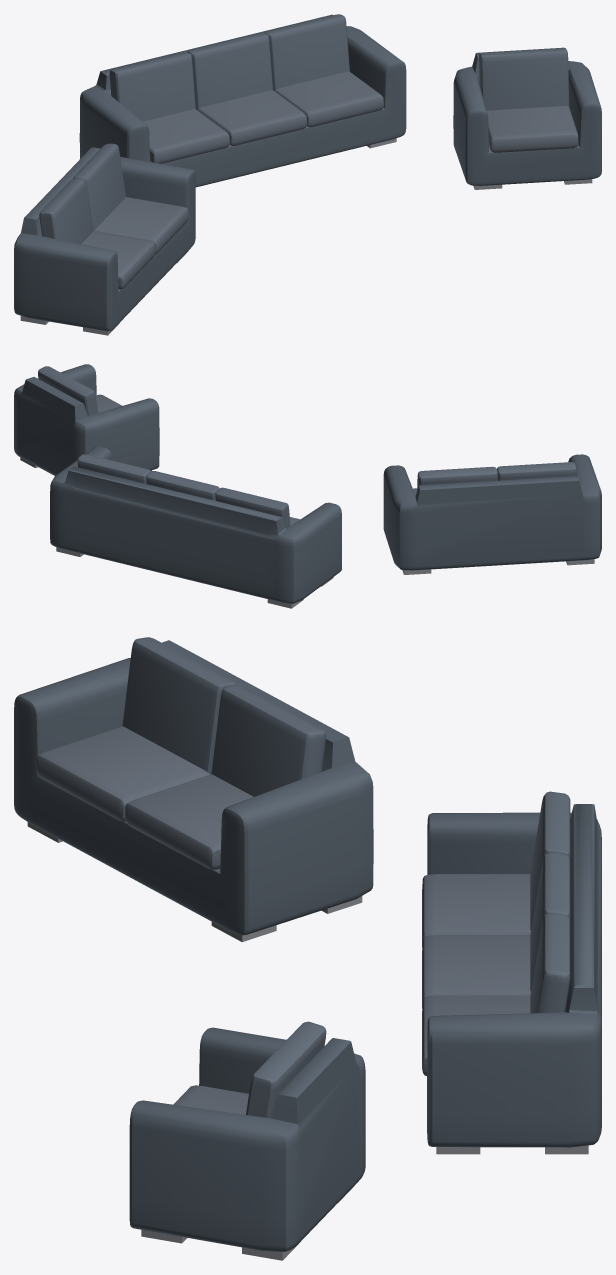
Rendered from sofas.fbx.
3 renders of one model, top to bottom at view 1: azimuth 30°, elevation 25°; view 2: azimuth 150°, elevation 25°; view 3: azimuth 270°, elevation 25°, orthographic. The views are drawn at different scales.
Parts seen in each view (by area): view 1: sofa, sofa.001, sofa.002; view 2: sofa, sofa.001, sofa.002; view 3: sofa.001, sofa, sofa.002.
Boxes of the visible parts, x1=… form: sofa: x1=79, y1=14, x2=406, y2=187; sofa.001: x1=14, y1=143, x2=195, y2=335; sofa.002: x1=453, y1=47, x2=601, y2=189; sofa: x1=50, y1=446, x2=341, y2=608; sofa.001: x1=383, y1=454, x2=601, y2=574; sofa.002: x1=14, y1=364, x2=159, y2=475; sofa.001: x1=14, y1=637, x2=373, y2=942; sofa: x1=422, y1=791, x2=601, y2=1154; sofa.002: x1=129, y1=1021, x2=365, y2=1260.
Size of the model in its own units: 1437 by 234 by 738.
